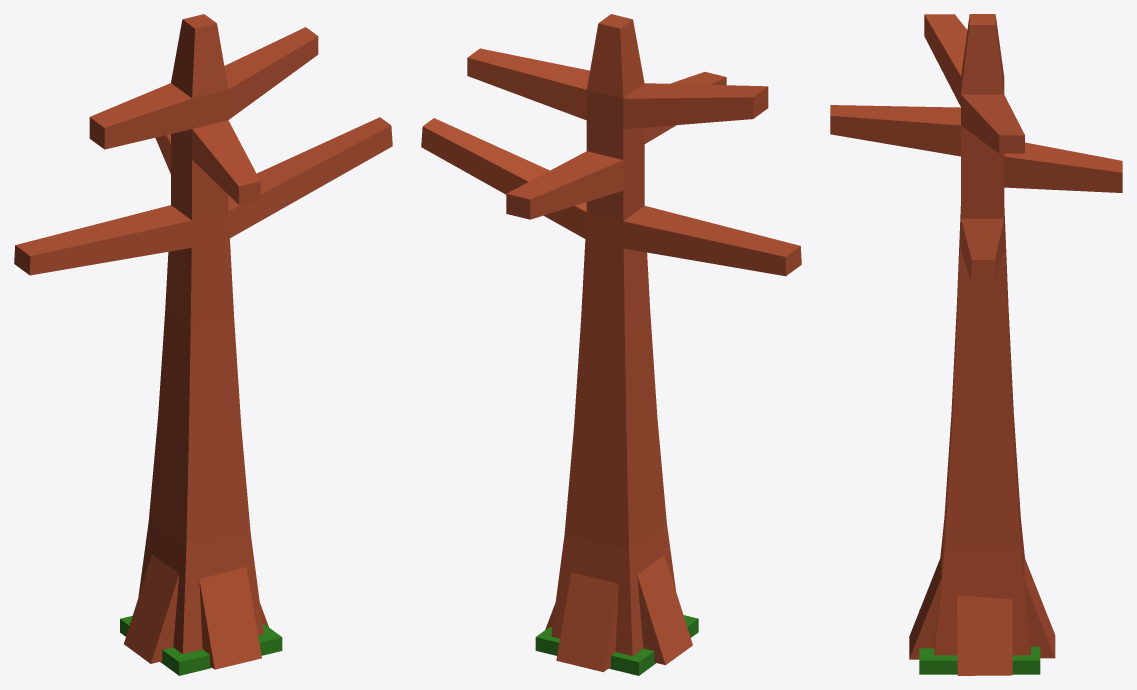
The model's file is TRONCOARVORE2.fbx.
The picture shows the model from 3 angles, left to right: view 1: azimuth 30°, elevation 25°; view 2: azimuth 150°, elevation 25°; view 3: azimuth 270°, elevation 25°; orthographic projection.
Parts seen in each view (by area): view 1: Cubo.002; view 2: Cubo.002; view 3: Cubo.002.
Boxes of the visible parts, x1,y1,x2,y2 form: Cubo.002: [14, 14, 392, 675]; Cubo.002: [421, 14, 801, 675]; Cubo.002: [830, 14, 1122, 675].
Size of the model in its own units: 599 by 971 by 409.
